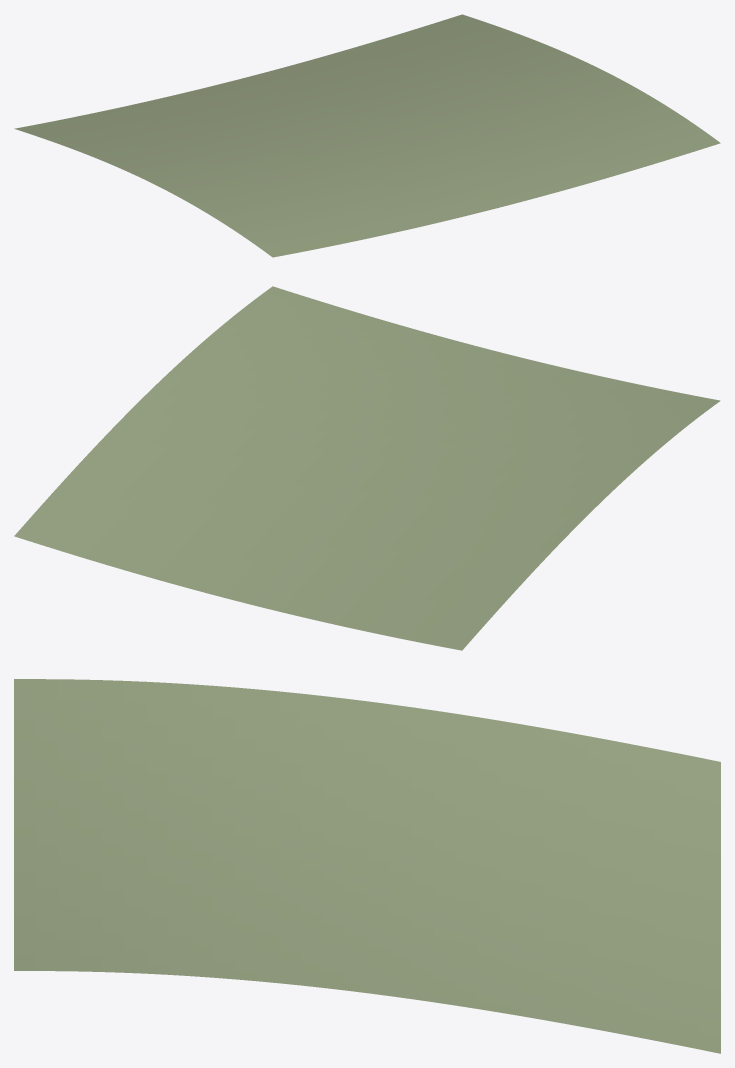
The model's file is valley-4-0.glb.
The picture shows the model from 3 angles, top to bottom: view 1: azimuth 30°, elevation 25°; view 2: azimuth 150°, elevation 25°; view 3: azimuth 270°, elevation 25°; orthographic projection. The views are drawn at different scales.
Parts seen in each view (by area): view 1: valley-4-0; view 2: valley-4-0; view 3: valley-4-0.
Boxes of the visible parts, bbox=[...] form: valley-4-0: bbox=[14, 14, 720, 257]; valley-4-0: bbox=[14, 286, 720, 650]; valley-4-0: bbox=[14, 679, 720, 1053].
Size of the model in its own units: 256 by 38.93 by 256.
